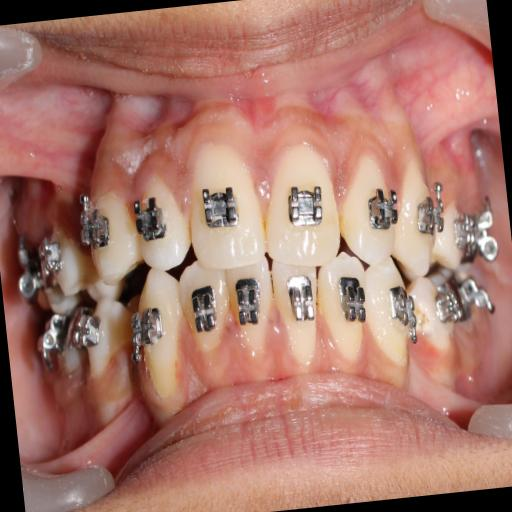correct_brace: (196, 178, 245, 238), (282, 174, 325, 230), (131, 187, 170, 248), (413, 186, 448, 244), (366, 182, 402, 231), (78, 202, 114, 246)
incorrect_brace: (332, 144, 402, 268), (131, 170, 194, 262)
